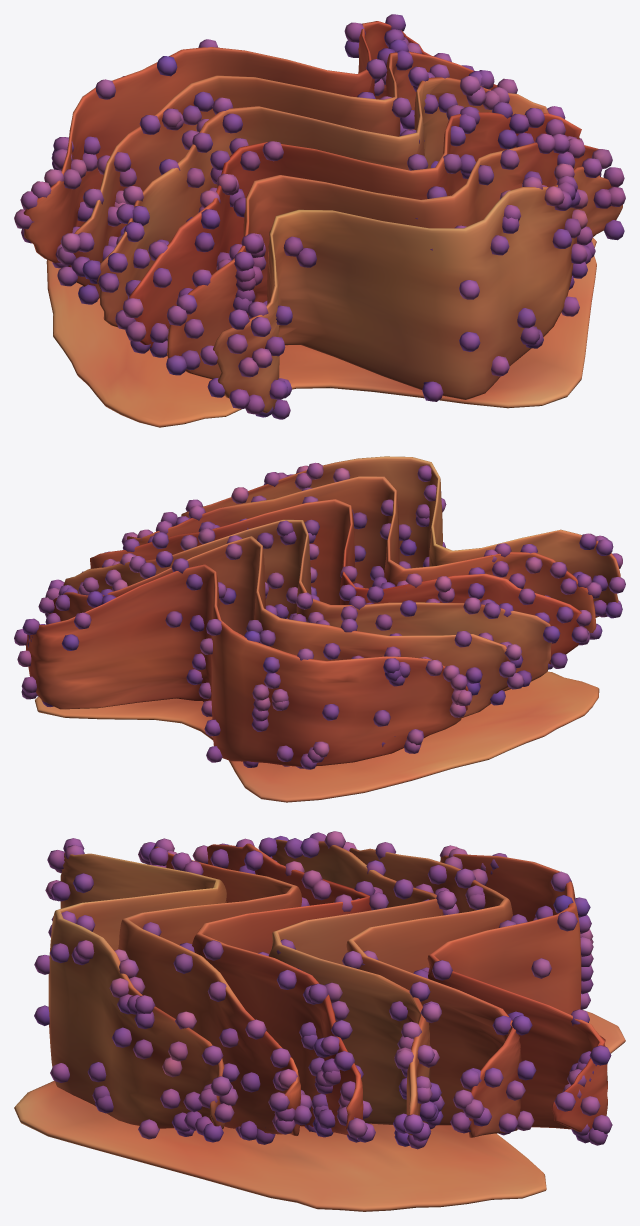
The model's file is rough-er.glb.
3 views of the same model, one above another, from view 1: azimuth 30°, elevation 25°; view 2: azimuth 150°, elevation 25°; view 3: azimuth 270°, elevation 25° (orthographic). The views are drawn at different scales.
Parts seen in each view (by area): view 1: rough-er-sheets, rough-er-ribosomes; view 2: rough-er-sheets, rough-er-ribosomes; view 3: rough-er-sheets, rough-er-ribosomes.
Boxes of the visible parts, bbox=[...] form: rough-er-sheets: bbox=[23, 21, 622, 427]; rough-er-ribosomes: bbox=[14, 14, 625, 419]; rough-er-sheets: bbox=[25, 456, 620, 802]; rough-er-ribosomes: bbox=[14, 462, 625, 769]; rough-er-sheets: bbox=[14, 839, 625, 1211]; rough-er-ribosomes: bbox=[34, 831, 612, 1149].
Size of what is drawn, in the model's own units: 3.72 by 1.2 by 3.62.
